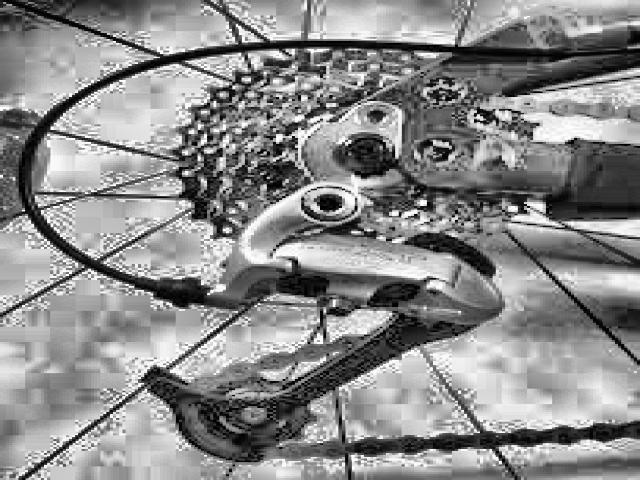cassette: (167, 43, 547, 261)
rear_derailleur: (145, 181, 508, 465)
